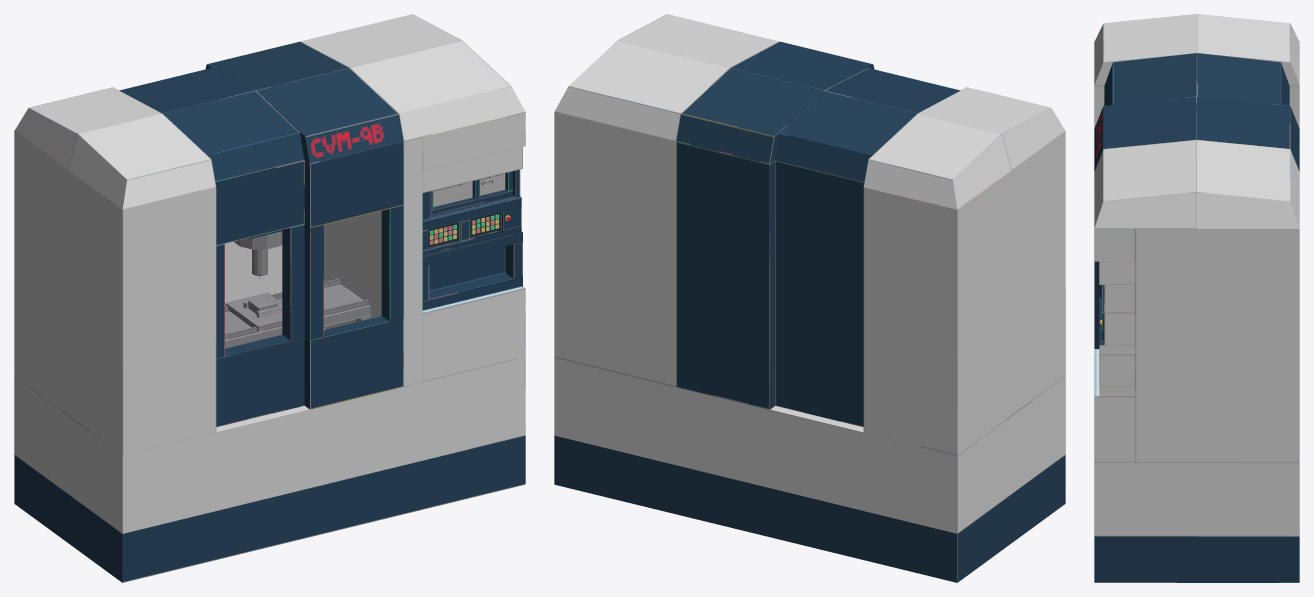
File: fraese.glb
The picture shows the model from 3 angles, left to right: view 1: azimuth 30°, elevation 25°; view 2: azimuth 150°, elevation 25°; view 3: azimuth 270°, elevation 25°; orthographic projection. The views are drawn at different scales.
Visible parts, largest first — view 1: Object_3, Object_2; view 2: Object_3; view 3: Object_3.
Part boxes in pixels (x1,y1,x2,y2): Object_3: [14, 14, 525, 582]; Object_2: [433, 173, 505, 206]; Object_3: [554, 14, 1065, 582]; Object_3: [1094, 14, 1299, 582].
Bounding box in the file's own units: 5.38 × 5.19 × 2.5.
Materials: 2 (2 with a texture image).
